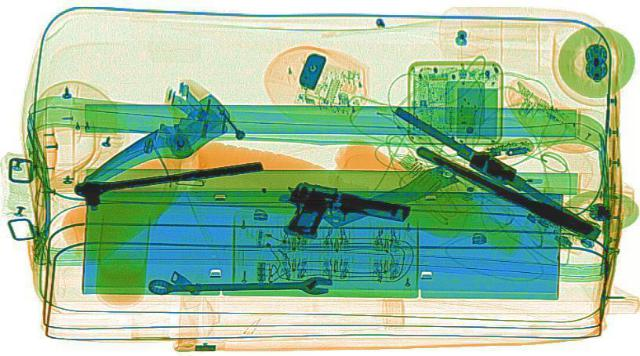Gun: (253, 177, 419, 251)
Wrench: (146, 274, 330, 292)
